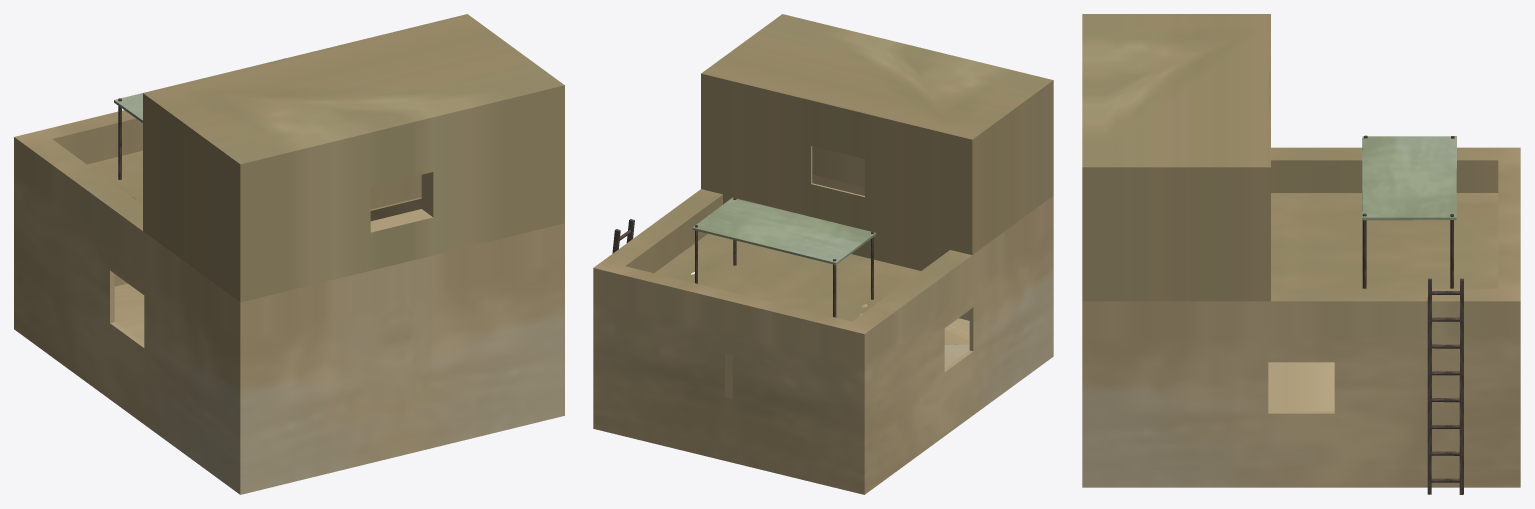
Rendered from homefloor2.fbx.
3 views of the same model, side by side, from view 1: azimuth 30°, elevation 25°; view 2: azimuth 150°, elevation 25°; view 3: azimuth 270°, elevation 25° (orthographic). The views are drawn at different scales.
Visible parts, largest first — view 1: Cylinder.004; view 2: Cylinder.004; view 3: Cylinder.004.
Part boxes in pixels (left/top/right/bottom): Cylinder.004: left=14, top=14, right=564, bottom=494; Cylinder.004: left=593, top=14, right=1053, bottom=494; Cylinder.004: left=1082, top=14, right=1520, bottom=494.
Bounding box in the file's own units: 2755 × 2493 × 3093.
7 materials, 7 textured.
